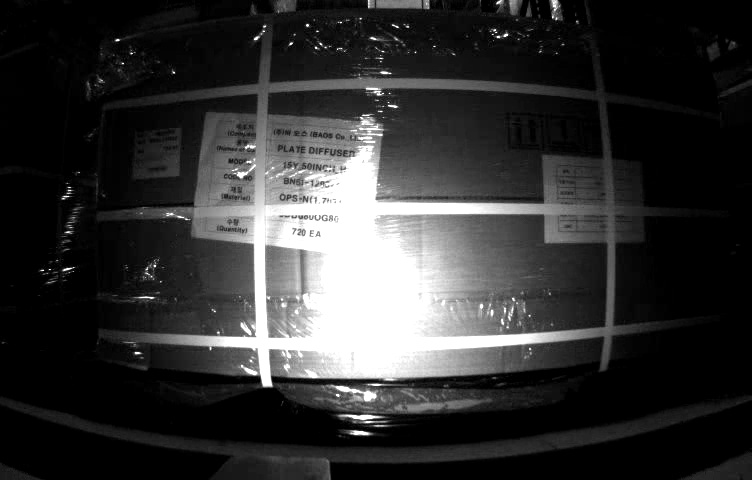True Barcode: (136, 132, 179, 178)
